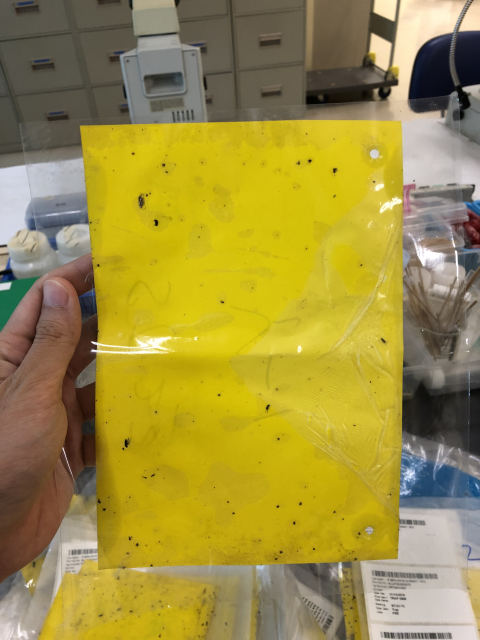DBM: (135, 192, 147, 211)
